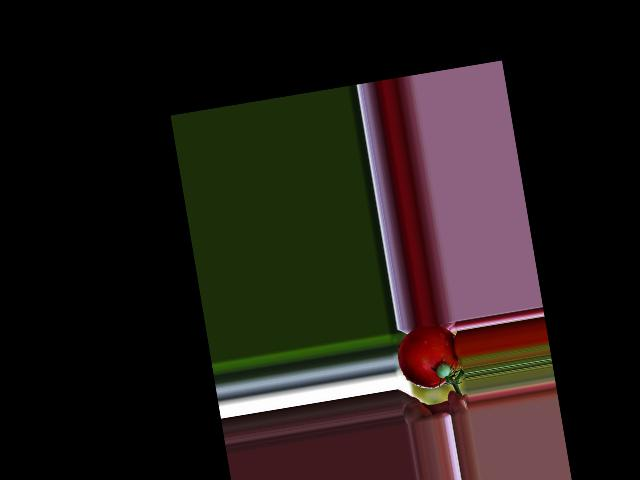tomato: (393, 320, 462, 393)
